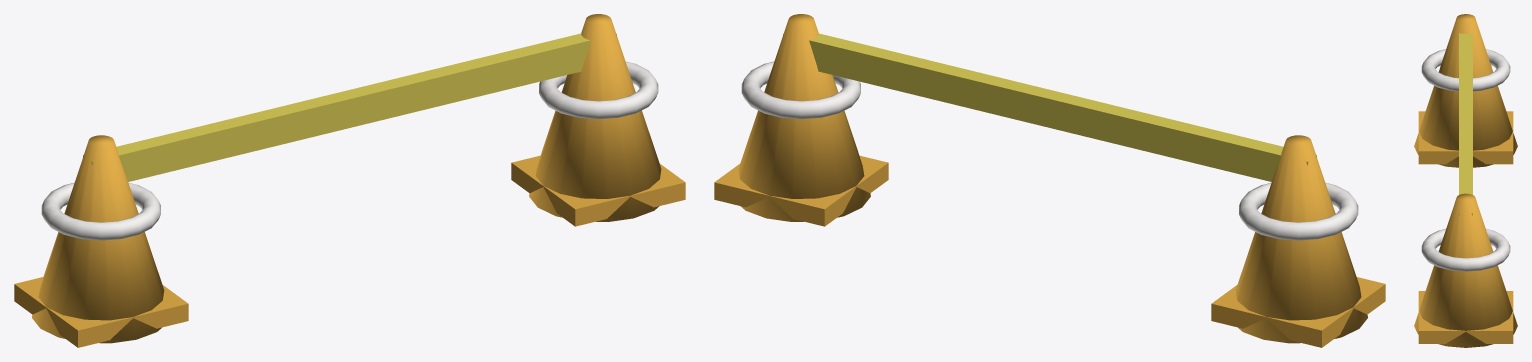
File: prop_cone_bar.glb
The picture shows the model from 3 angles, left to right: view 1: azimuth 30°, elevation 25°; view 2: azimuth 150°, elevation 25°; view 3: azimuth 270°, elevation 25°; orthographic projection. The views are drawn at different scales.
Visible parts, largest first — view 1: cone_bar; view 2: cone_bar; view 3: cone_bar.
Boxes of the visible parts, x1,y1,x2,y2 form: cone_bar: (14, 14, 685, 347); cone_bar: (714, 14, 1385, 347); cone_bar: (1414, 14, 1517, 347).
Size of the model in its own units: 2.24 by 0.6 by 0.44.
